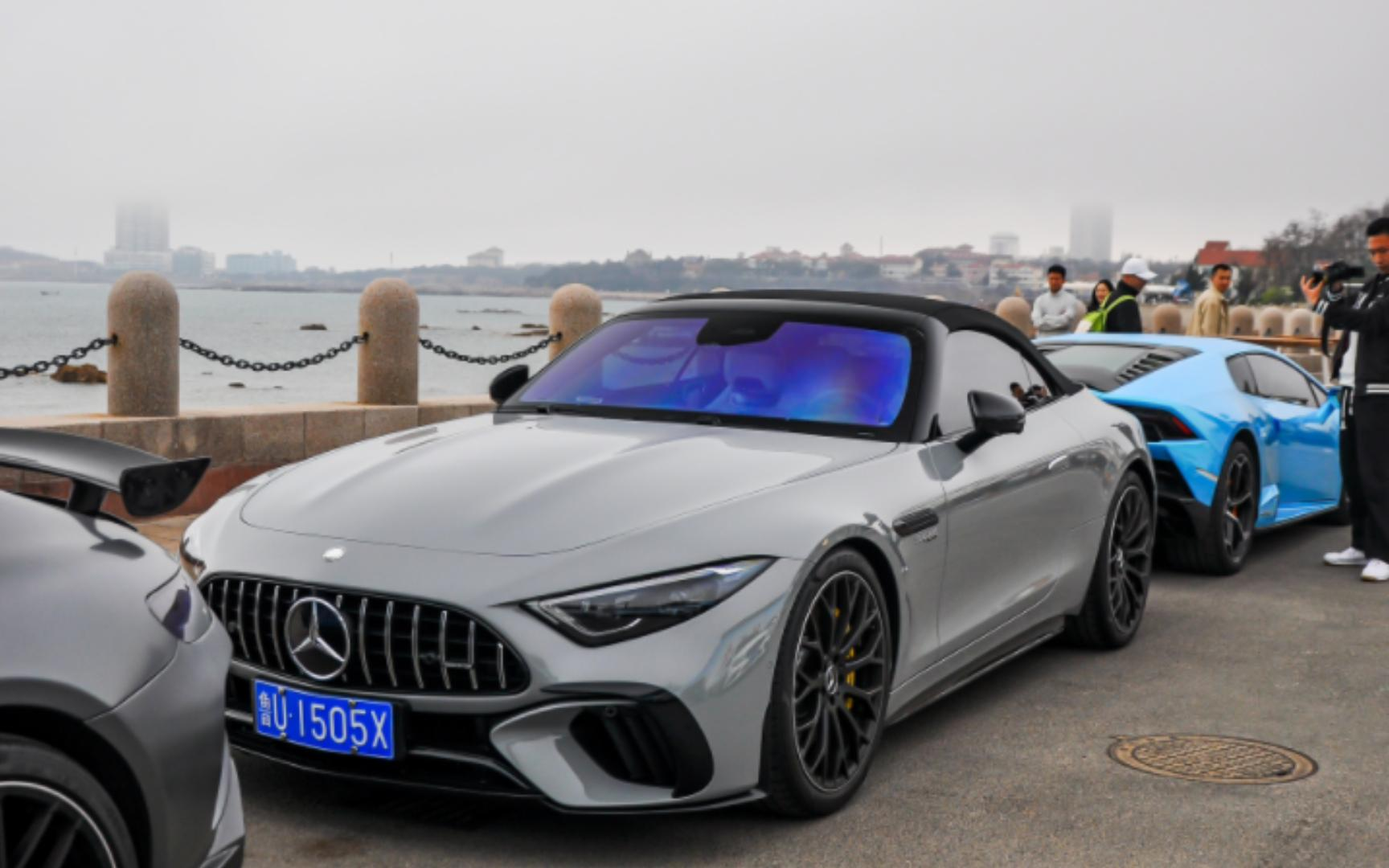other: (153, 253, 1147, 832), (1020, 309, 1355, 569)
